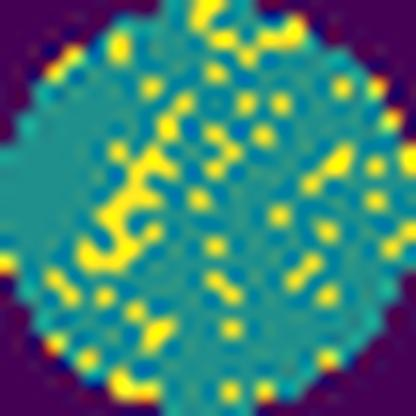Scratch: (70, 84, 199, 278)
